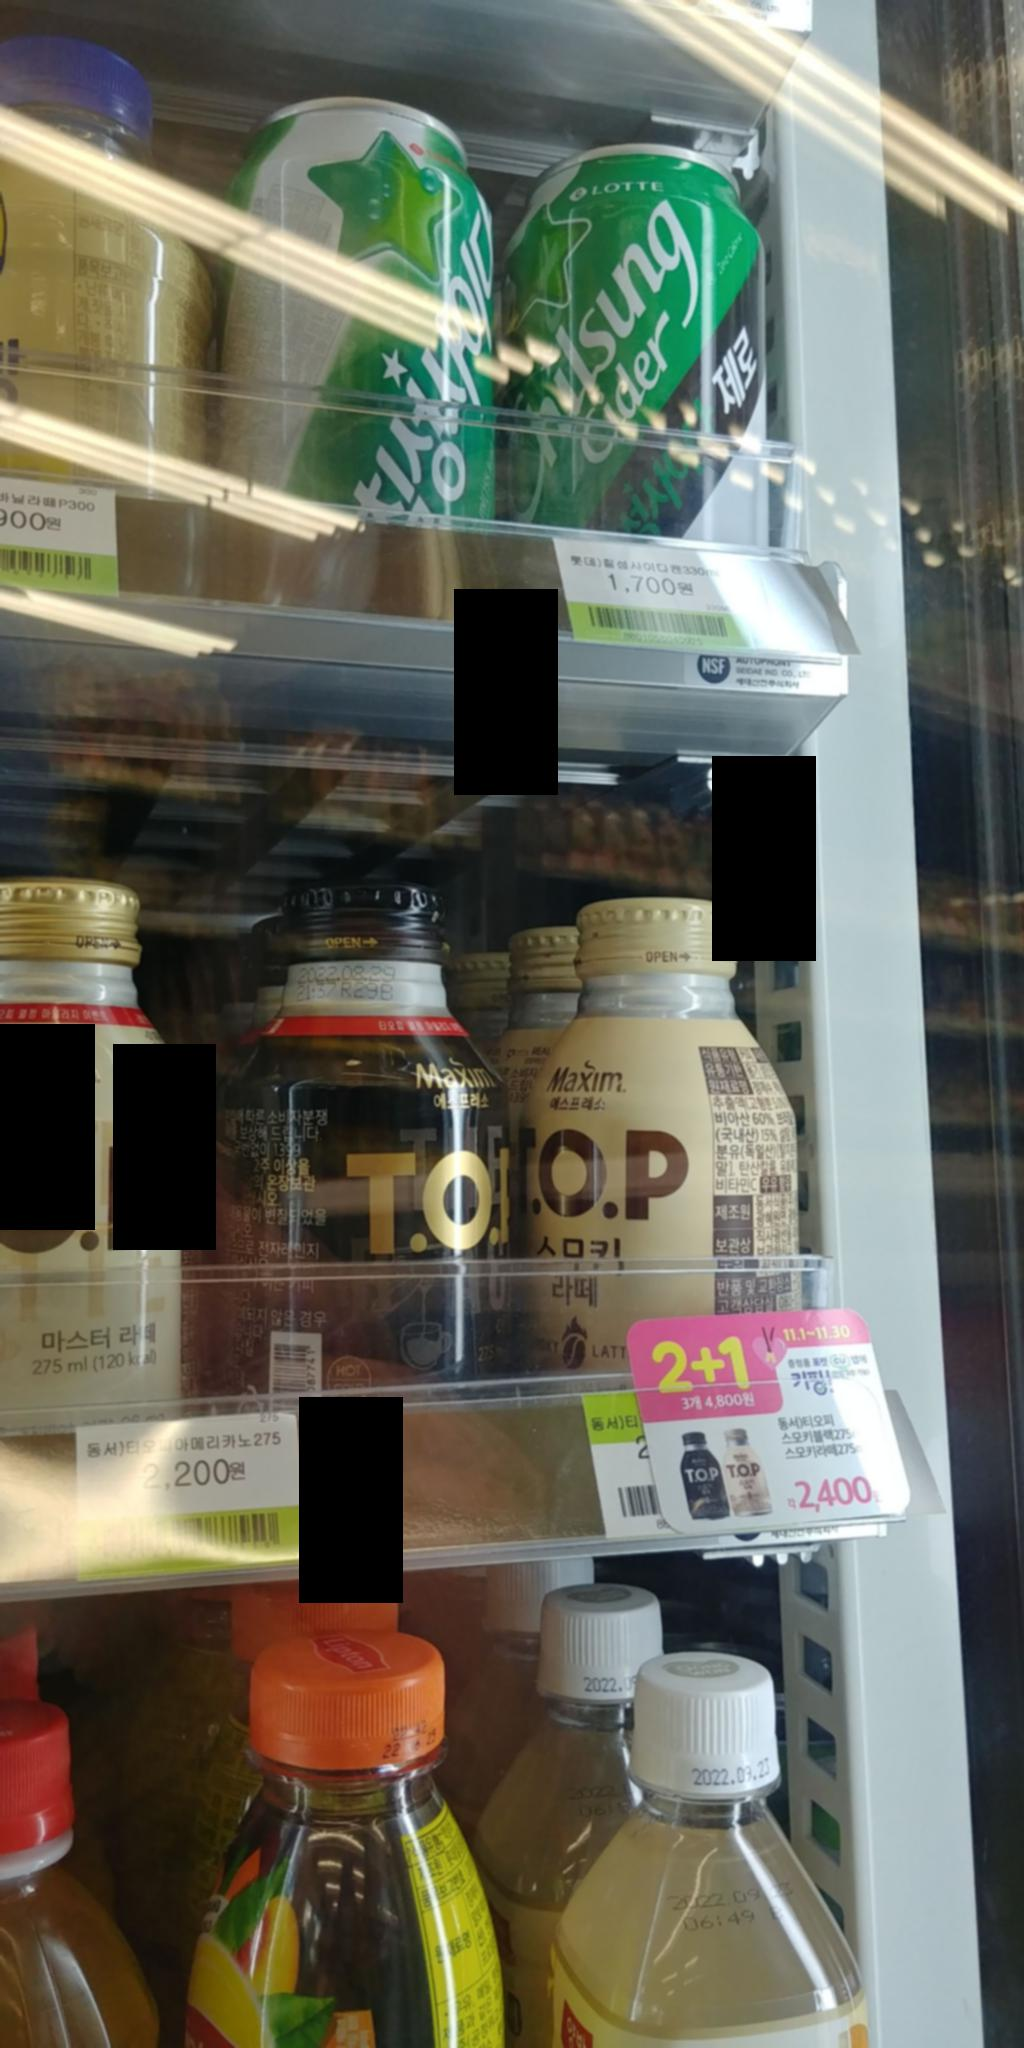TOP_black: (188, 862, 522, 1382)
chilsungcider: (208, 72, 529, 526)
